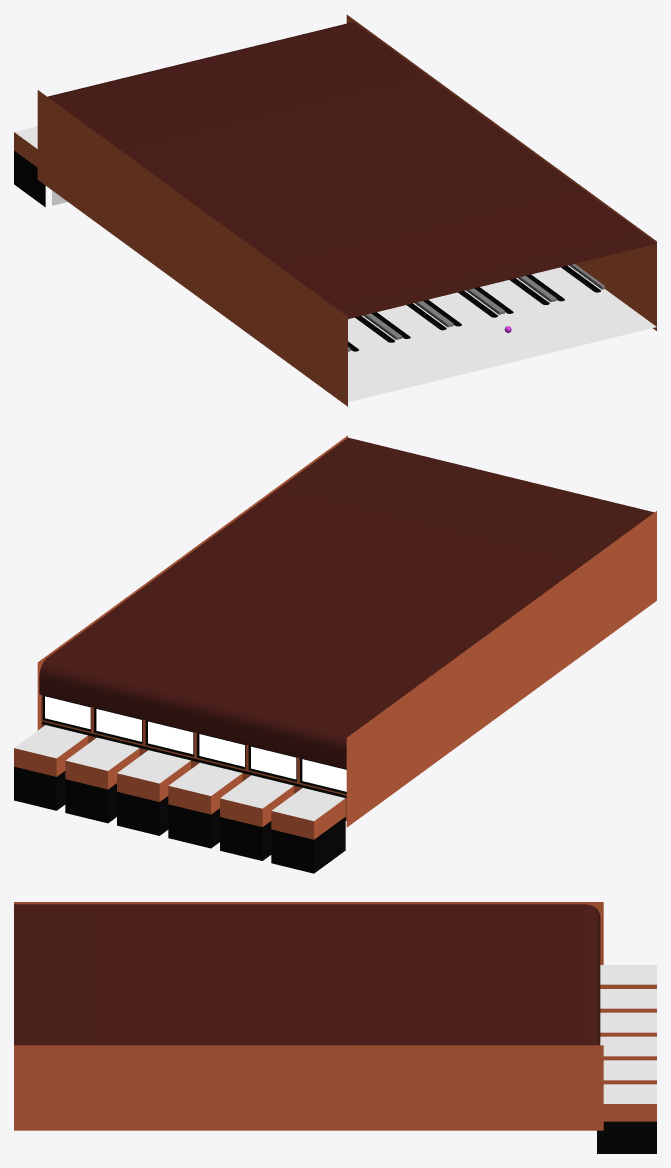
Rendered from bowling.glb.
3 views of the same model, one above another, from view 1: azimuth 30°, elevation 25°; view 2: azimuth 150°, elevation 25°; view 3: azimuth 270°, elevation 25° (orthographic). The views are drawn at different scales.
Parts seen in each view (by area): view 1: BowlingAlley, Plane.001, Plane; view 2: BowlingAlley, Plane.001, Plane; view 3: BowlingAlley, Plane, Plane.001.
Boxes of the visible parts, x1,y1,x2,y2 form: BowlingAlley: [14, 22, 656, 402]; Plane.001: [37, 90, 347, 406]; Plane: [346, 14, 656, 330]; BowlingAlley: [14, 437, 654, 873]; Plane.001: [346, 511, 656, 827]; Plane: [37, 435, 347, 730]; BowlingAlley: [14, 904, 656, 1153]; Plane: [14, 1045, 603, 1130]; Plane.001: [14, 902, 603, 964].
Size of the model in its own units: 10.49 by 3.78 by 19.91.
Materials: 10 (1 with a texture image).
